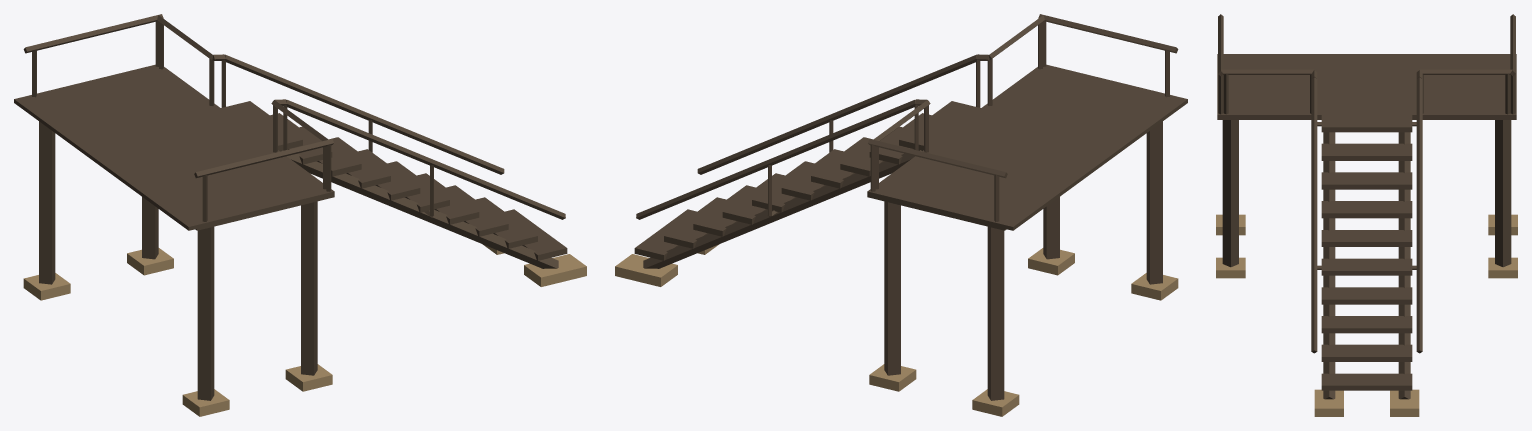
File: access-A-LOD2.glb
3 views of the same model, side by side, from view 1: azimuth 30°, elevation 25°; view 2: azimuth 150°, elevation 25°; view 3: azimuth 270°, elevation 25° (orthographic). The views are drawn at different scales.
Parts seen in each view (by area): view 1: access-A-static_timber, access-A-static_earth; view 2: access-A-static_timber, access-A-static_earth; view 3: access-A-static_timber, access-A-static_earth.
Part boxes in pixels (box(x1,y1,x2,y2)): access-A-static_timber: box(14, 14, 567, 400); access-A-static_earth: box(23, 244, 586, 416); access-A-static_timber: box(634, 14, 1187, 400); access-A-static_earth: box(615, 244, 1178, 416); access-A-static_timber: box(1217, 14, 1516, 399); access-A-static_earth: box(1216, 214, 1517, 416).
Size of the model in its own units: 9.92 by 5.27 by 6.65.
